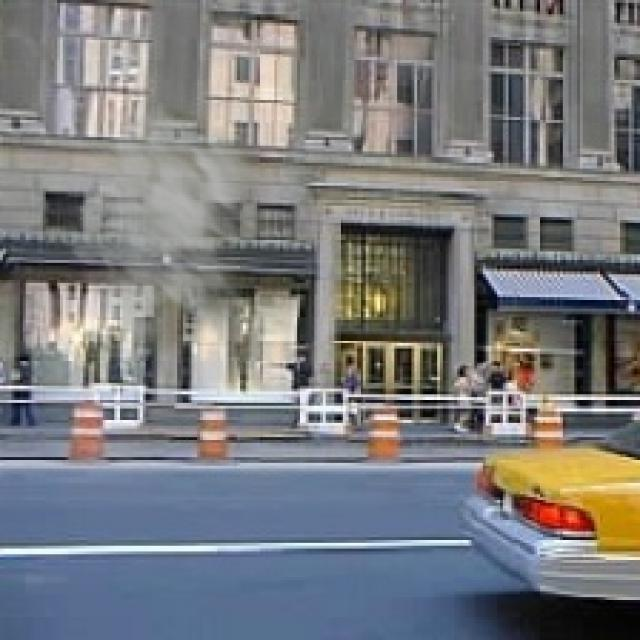smoke: (60, 91, 291, 360)
